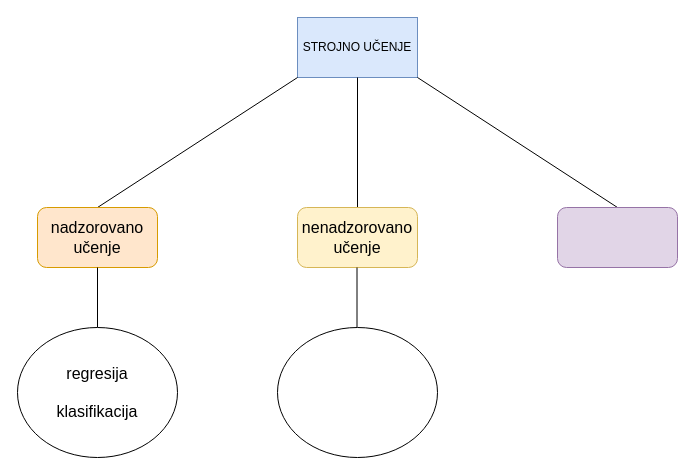
This 695x475 diagram has some shape labels left out. The box of each missing label's shape, as (x1, y1, x2, y2) in pixels:
gručenje redukcija dimenzij iskanje anomalij: (276, 326, 438, 458)
okrepitveno učenje: (556, 206, 678, 268)
